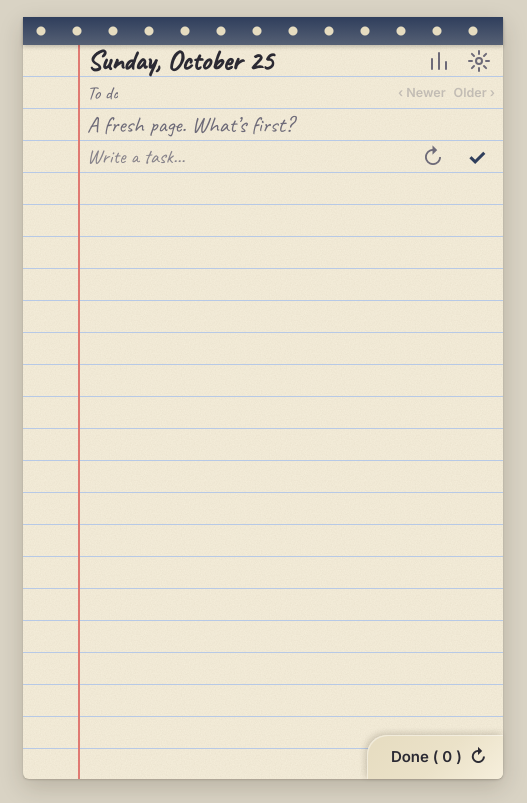
Test: adding tasks › adds a routine straight away with the routine toggle
Click the button named "Add as routine" at (433, 157), box [411,135,455,179]
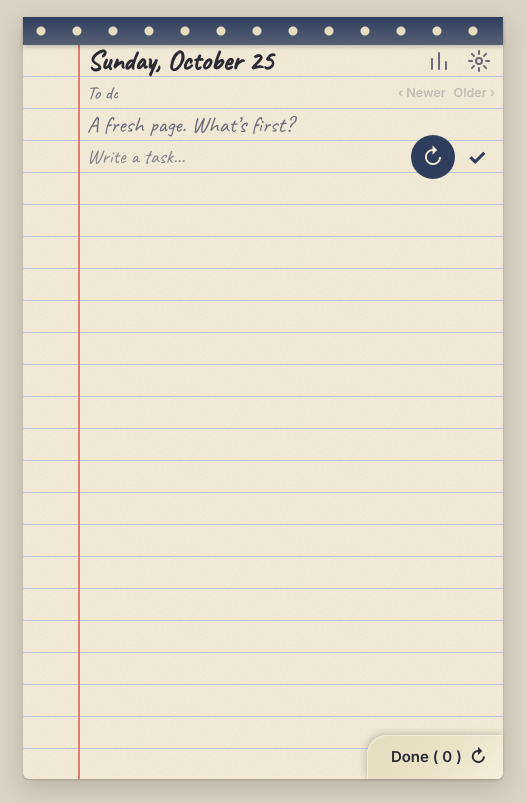
Now the button named "Add as routine" is pressed, box [411,135,455,179]
Type "Stretch" into the text box named "New task" at (245, 157), box [87,141,403,173]
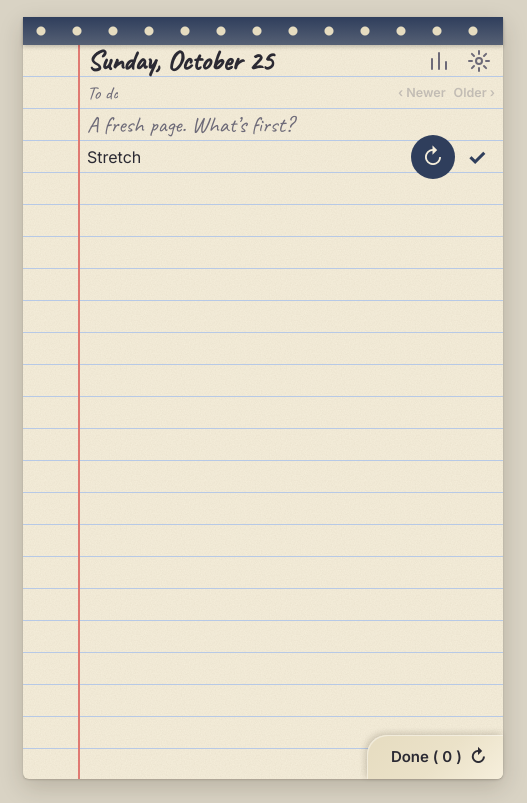
Click the button named "Add task" at (477, 157), box [455,135,499,179]
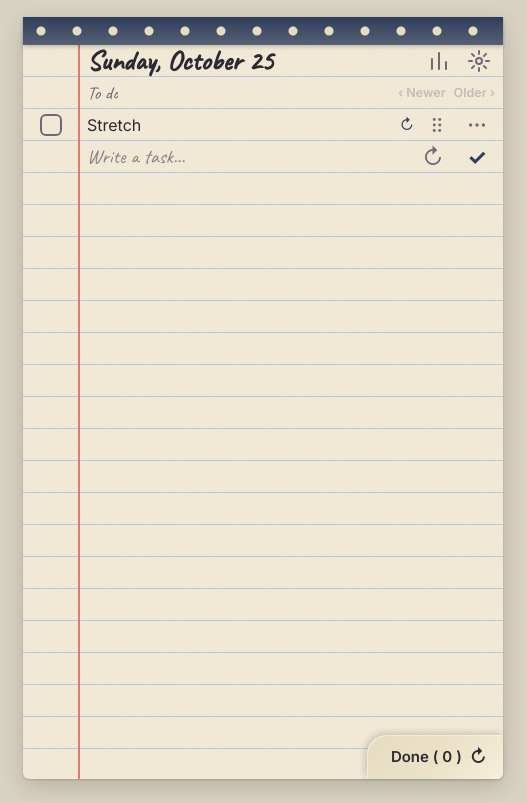
Now the picture named "Routine" is shown, box [400,115,414,134]
